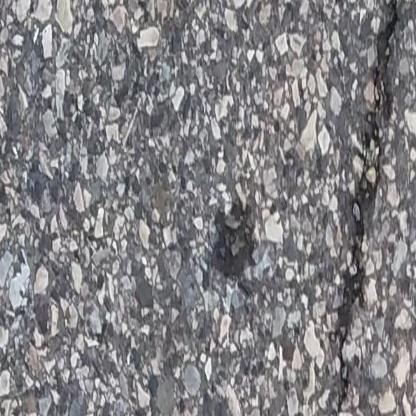Cracks: (323, 0, 404, 416)
